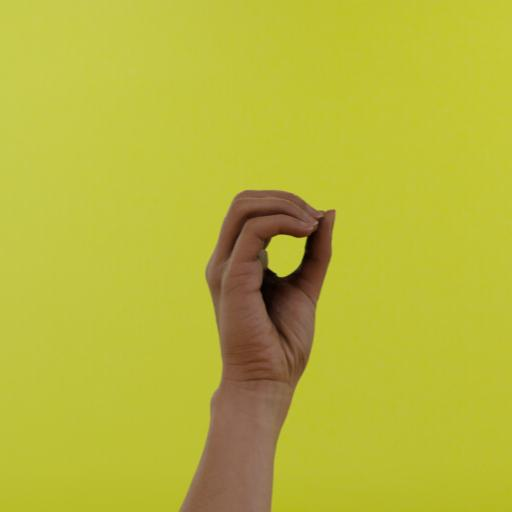O: (187, 173, 346, 512)
